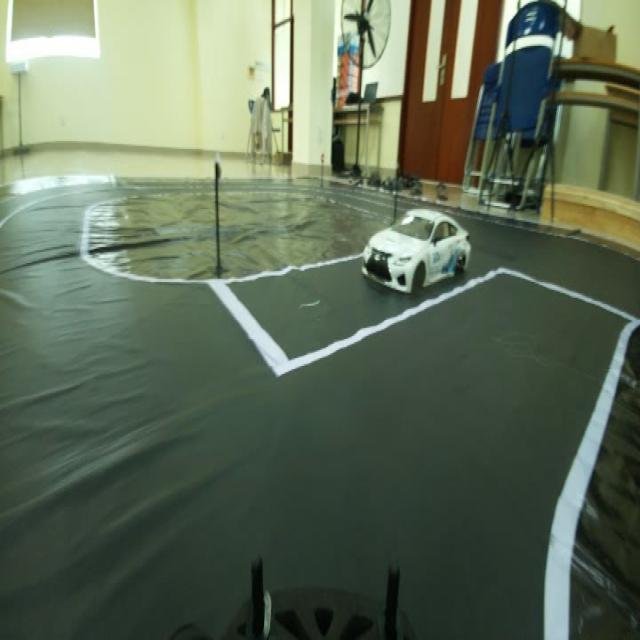car: (348, 186, 478, 304)
